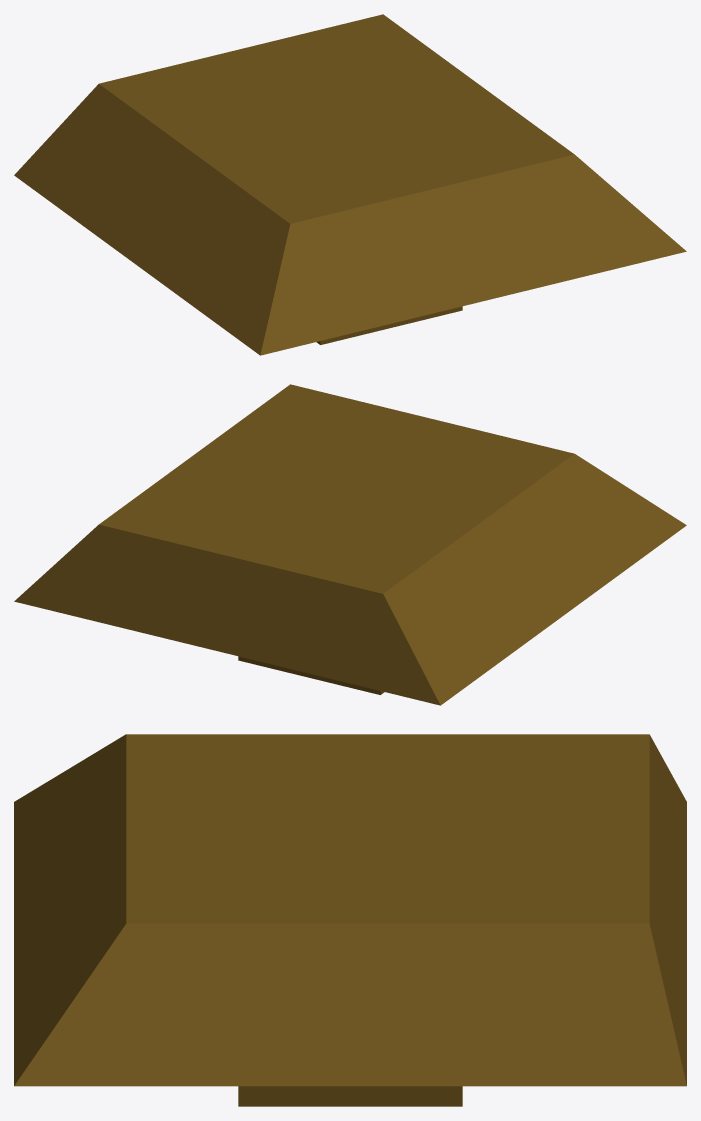
The model's file is original-38.obj.
3 views of the same model, one above another, from view 1: azimuth 30°, elevation 25°; view 2: azimuth 150°, elevation 25°; view 3: azimuth 270°, elevation 25° (orthographic). The views are drawn at different scales.
Parts seen in each view (by area): view 1: KB_-_Key_1_19/KB_-_Key_1/mesh13/mesh13-geometry#mesh13-geometry; view 2: KB_-_Key_1_19/KB_-_Key_1/mesh13/mesh13-geometry#mesh13-geometry; view 3: KB_-_Key_1_19/KB_-_Key_1/mesh13/mesh13-geometry#mesh13-geometry.
Part boxes in pixels (<box>): KB_-_Key_1_19/KB_-_Key_1/mesh13/mesh13-geometry#mesh13-geometry: <box>14,14,686,355</box>; KB_-_Key_1_19/KB_-_Key_1/mesh13/mesh13-geometry#mesh13-geometry: <box>14,384,686,705</box>; KB_-_Key_1_19/KB_-_Key_1/mesh13/mesh13-geometry#mesh13-geometry: <box>14,734,686,1106</box>.
Bounding box in the file's own units: 0.0764 × 0.0289 × 0.0764.
